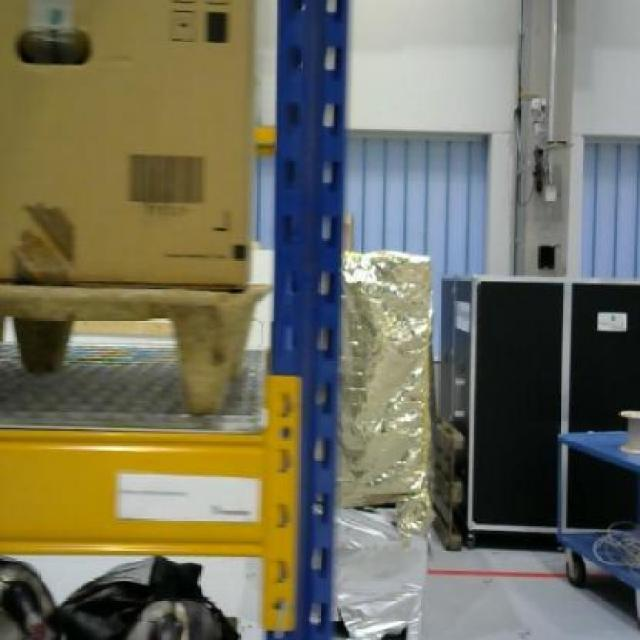box: (0, 1, 251, 294)
